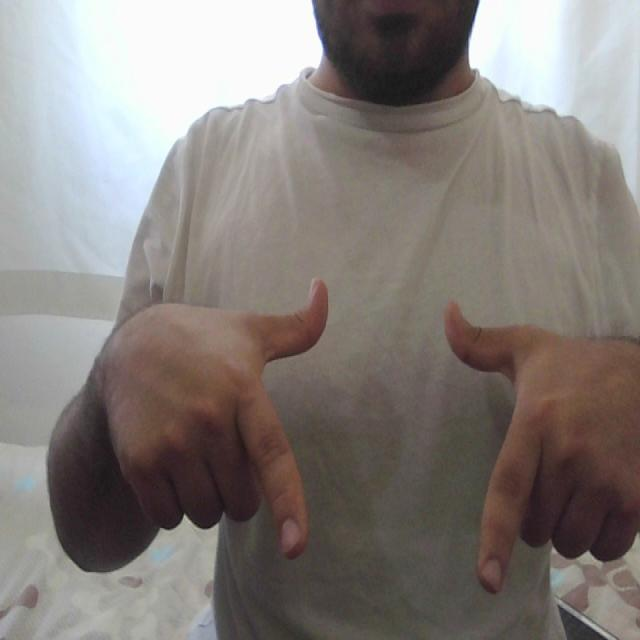Nerede: (212, 273, 561, 602)
